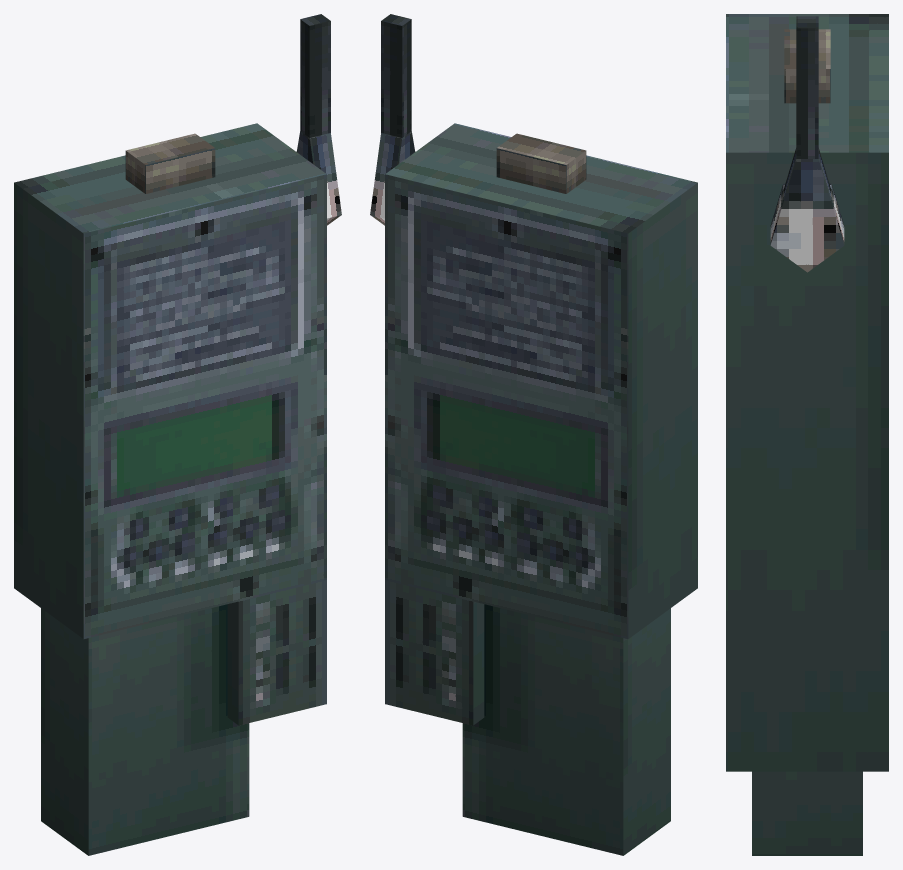
File: recovered_gear_handheld_7aeba4dff16d.glb
3 views of the same model, side by side, from view 1: azimuth 30°, elevation 25°; view 2: azimuth 150°, elevation 25°; view 3: azimuth 270°, elevation 25° (orthographic). The views are drawn at different scales.
Parts seen in each view (by area): view 1: handheld; view 2: handheld; view 3: handheld.
Part boxes in pixels (x1=…): handheld: x1=14, y1=14, x2=341, y2=855; handheld: x1=370, y1=14, x2=697, y2=855; handheld: x1=726, y1=14, x2=888, y2=855.
Bounding box in the file's own units: 0.1137 × 0.2969 × 0.0495.
1 material, 1 textured.
